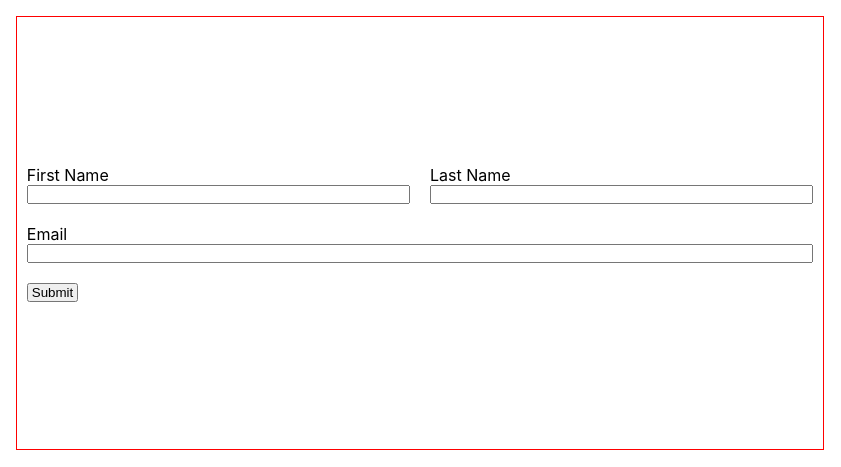
Scenario: shows only 1 error when 1 input is incorrect and the others are correct › loads first name error only
Type "w" into the field below "First Name".
click(219, 195); type("w")  # box 27,185 -> 410,204
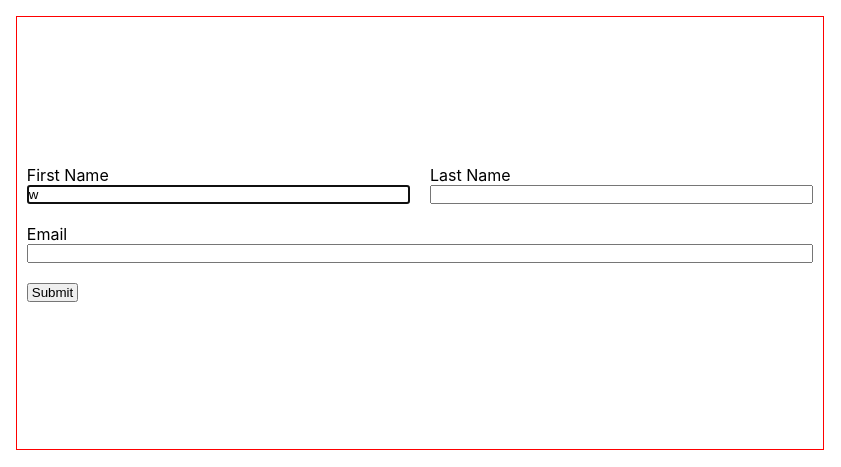
Type "Tang" into the field below "Last Name".
click(622, 195); type("Tang")  # box 430,185 -> 813,204
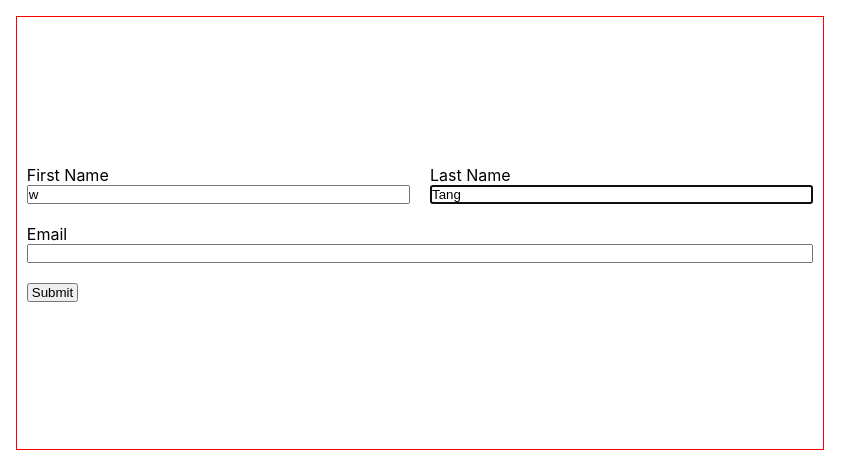
Type "weitongblue@gmail.com" into the field below "Email".
click(420, 254); type("weitongblue@gmail.com")  # box 27,244 -> 813,263
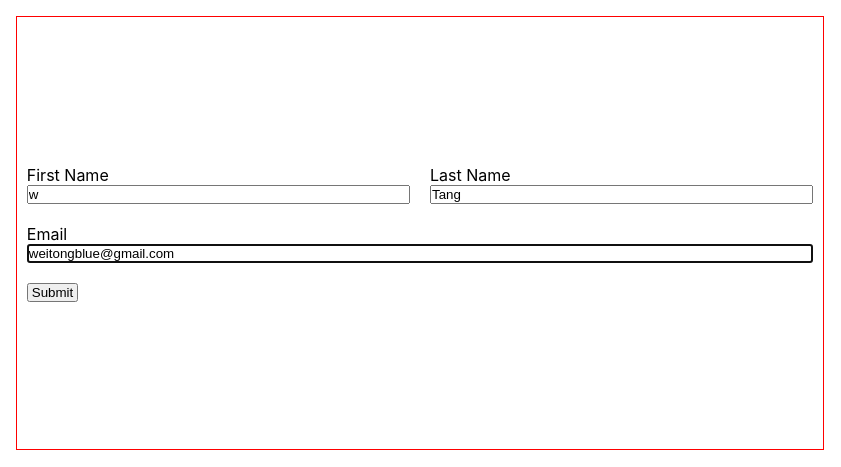
Click the button "Submit".
click(53, 293)  # box 27,283 -> 79,302
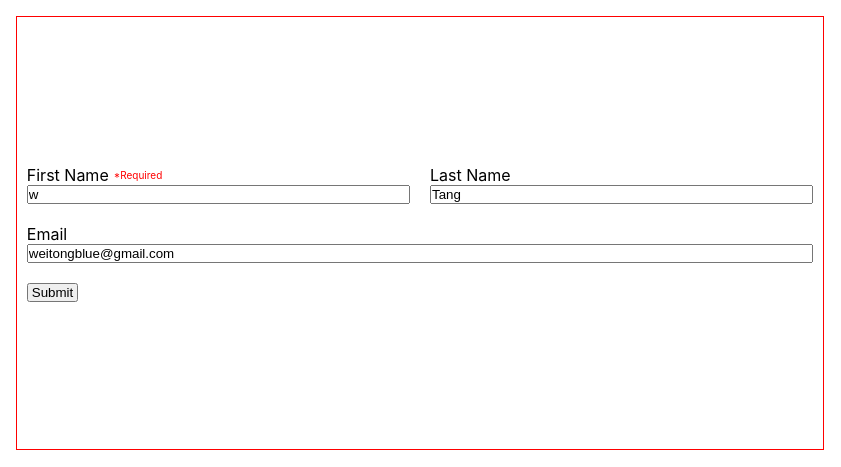
Now the text "*Required" is shown, box 114,168 -> 162,180
